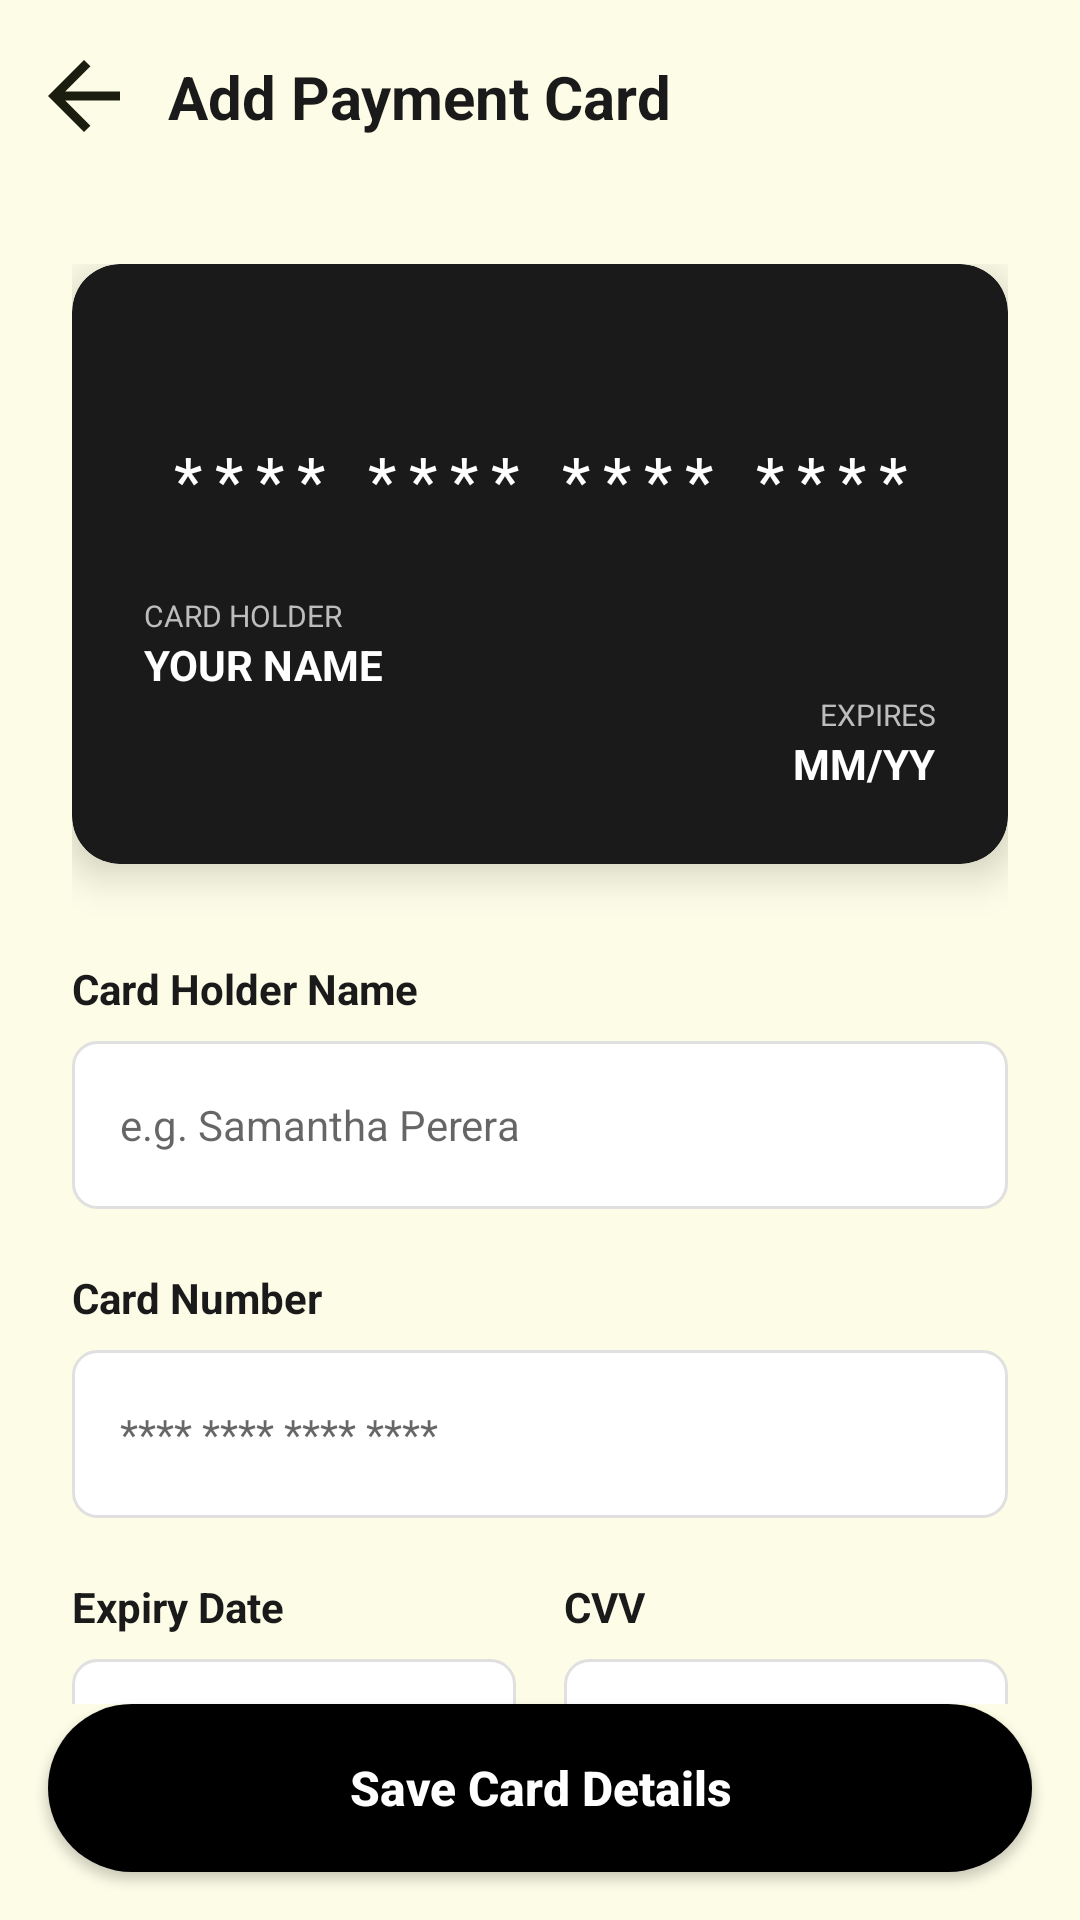

Icon click points for this 1080*1920 phone screenshot, format (x=x, y=y):
Back: (x=84, y=96)
